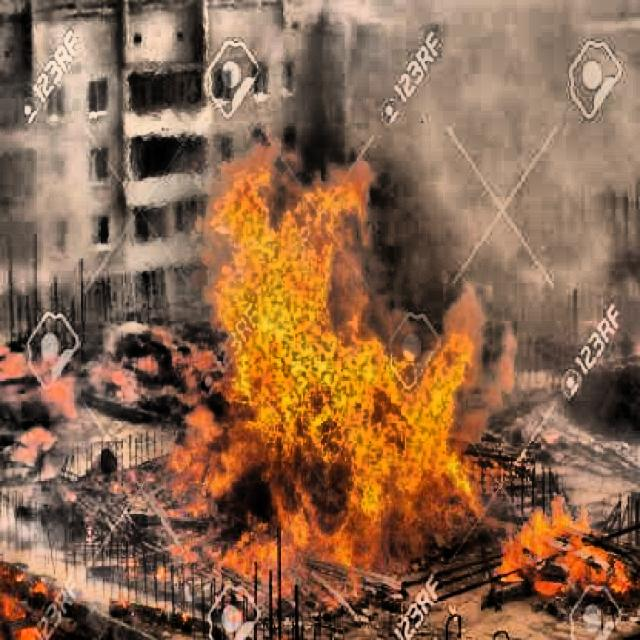Fire: (173, 129, 485, 593), (500, 492, 634, 599), (0, 340, 83, 420)
